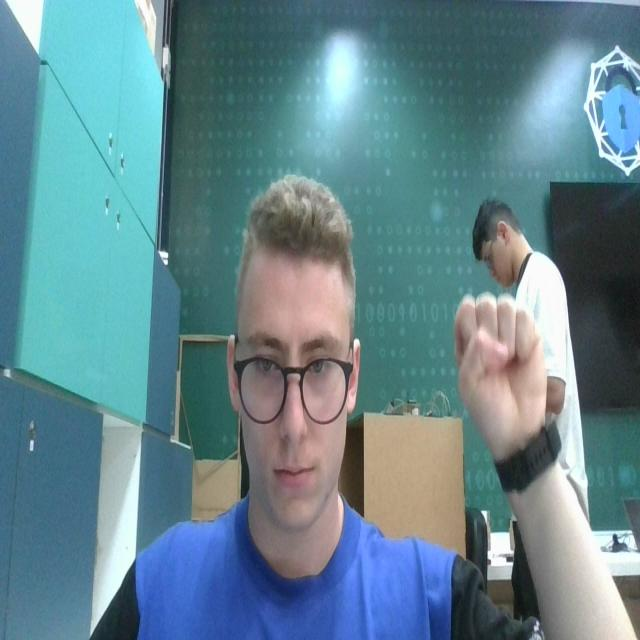S: (452, 286, 549, 448)
